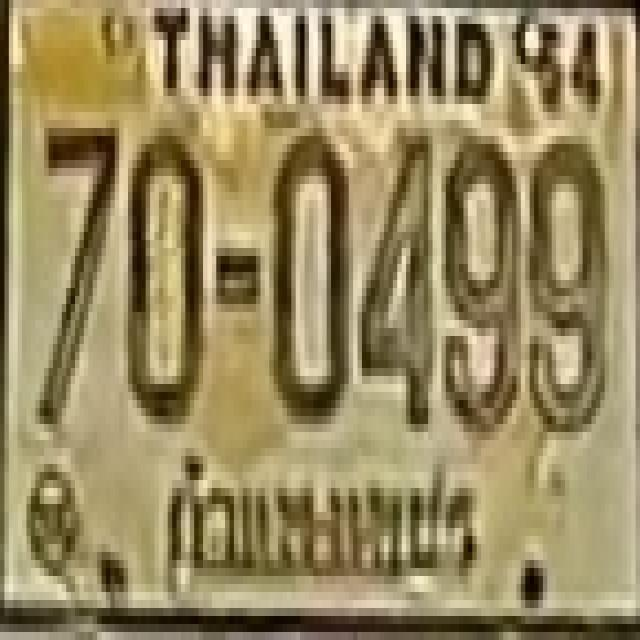0: (270, 128, 344, 416), (124, 128, 198, 416)
4: (358, 124, 432, 420)
7: (35, 120, 115, 424)
9: (525, 132, 605, 428), (442, 132, 516, 428)
KPT: (154, 439, 489, 598)
